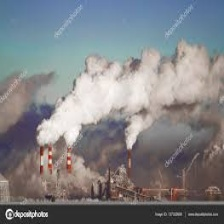smoke: (32, 54, 221, 146)
